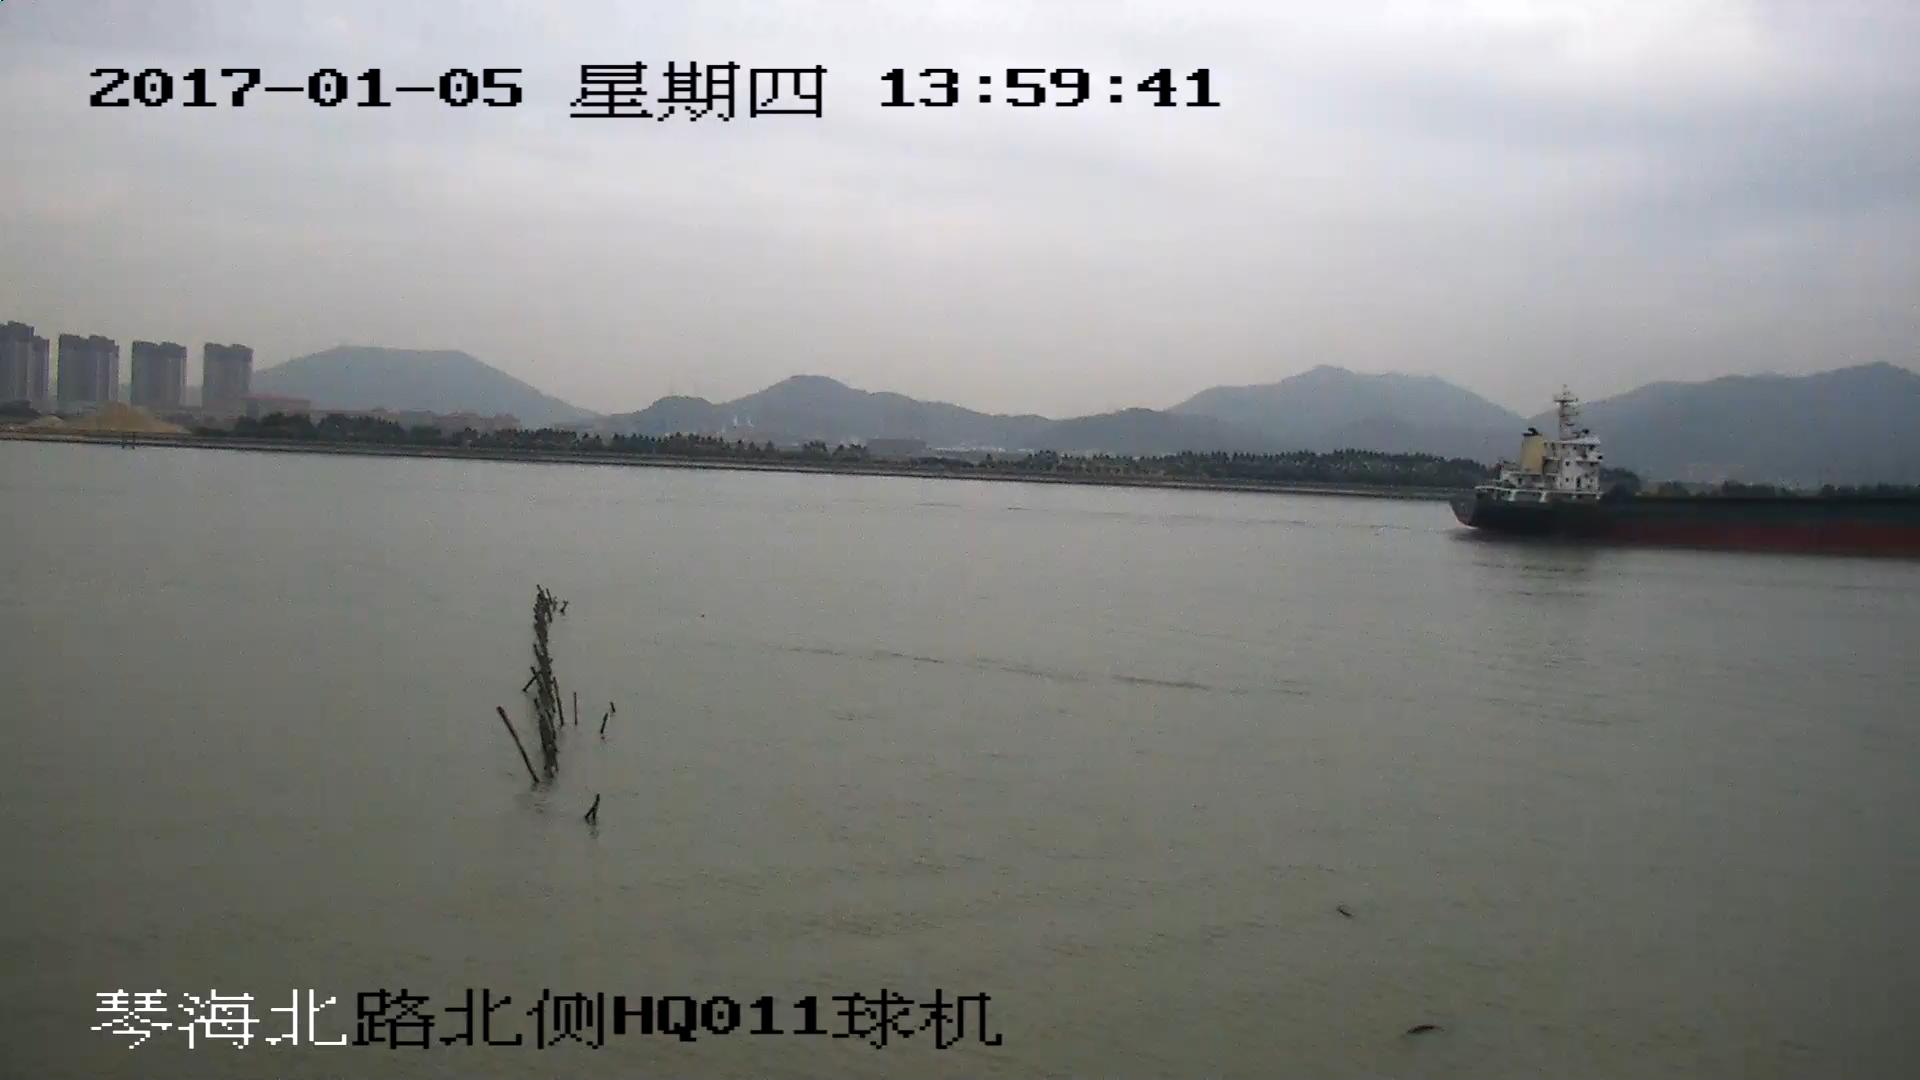general cargo ship: (1453, 390, 1920, 554)
